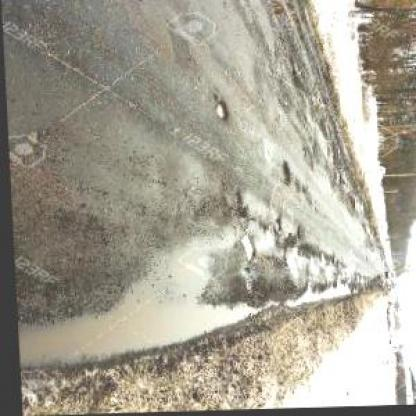pothole: (237, 236, 254, 263), (212, 101, 229, 122), (279, 161, 291, 186), (272, 219, 280, 233)
